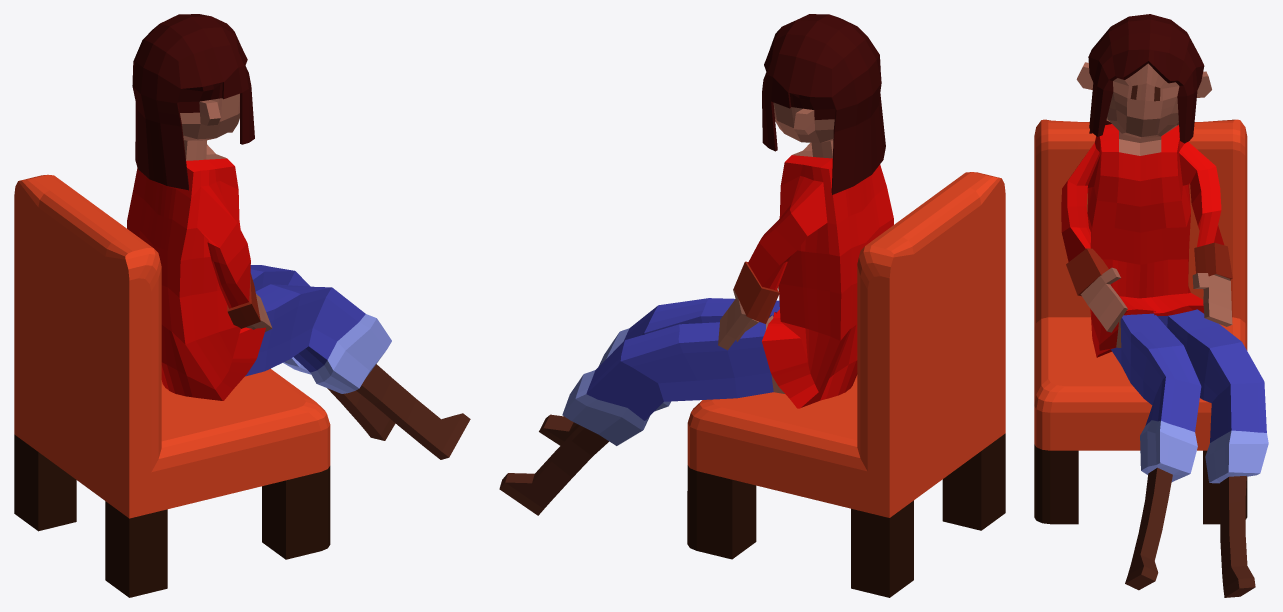
Rendered from therapist.glb.
3 renders of one model, left to right at view 1: azimuth 30°, elevation 25°; view 2: azimuth 150°, elevation 25°; view 3: azimuth 270°, elevation 25°, orthographic. The views are drawn at different scales.
Parts seen in each view (by area): view 1: Cube, Cube.001; view 2: Cube, Cube.001; view 3: Cube.001, Cube.
Boxes of the visible parts, x1,y1,x2,y2 form: Cube: (14, 174, 330, 597); Cube.001: (127, 14, 470, 459); Cube: (687, 172, 1005, 597); Cube.001: (499, 14, 893, 515); Cube.001: (1061, 14, 1268, 597); Cube: (1034, 119, 1247, 524).
Size of the model in its own units: 6.71 by 8.22 by 3.69.
